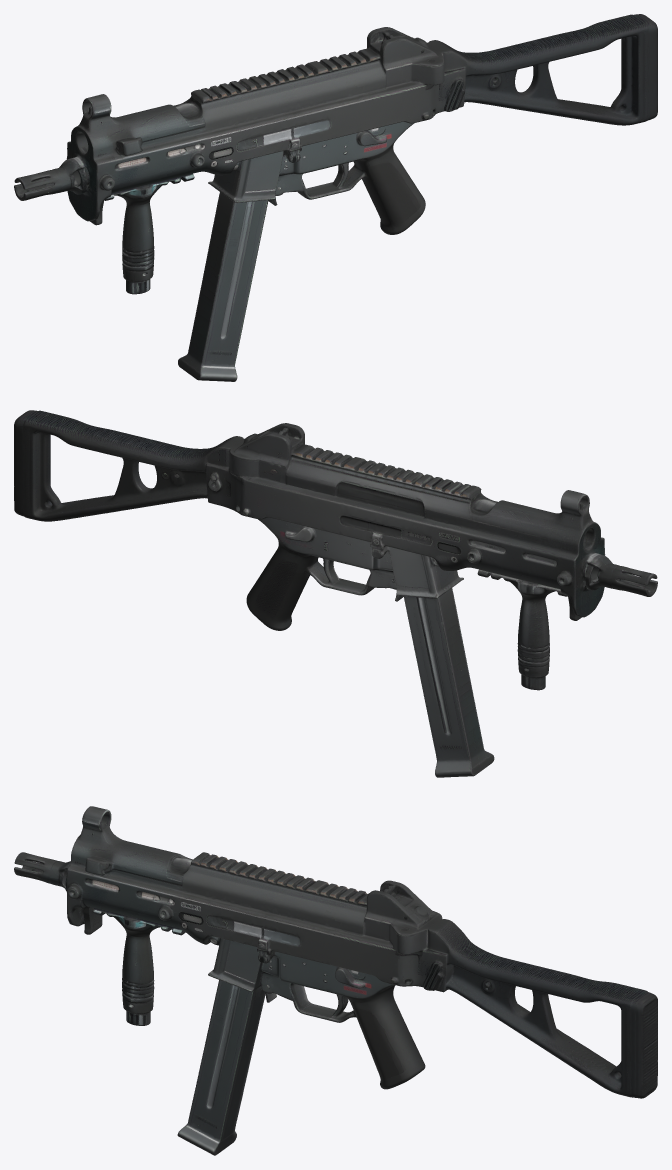
The model's file is Meshy_AI_UMP_1012115727_texture.glb.
3 renders of one model, top to bottom at view 1: azimuth 30°, elevation 25°; view 2: azimuth 150°, elevation 25°; view 3: azimuth 330°, elevation 25°, orthographic.
Visible parts, largest first — view 1: mesh_node; view 2: mesh_node; view 3: mesh_node.
Boxes of the visible parts, x1=… form: mesh_node: x1=14, y1=14, x2=657, y2=381; mesh_node: x1=14, y1=410, x2=657, y2=777; mesh_node: x1=14, y1=806, x2=657, y2=1155.
Size of the model in its own units: 1.9 by 0.8888 by 0.2052.
1 material, 1 textured.
